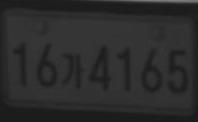1: (115, 46, 138, 93), (11, 42, 33, 87)
4: (88, 45, 112, 91)
5: (167, 49, 189, 94)
6: (36, 43, 58, 87), (141, 48, 163, 92)
가: (61, 52, 84, 89)
